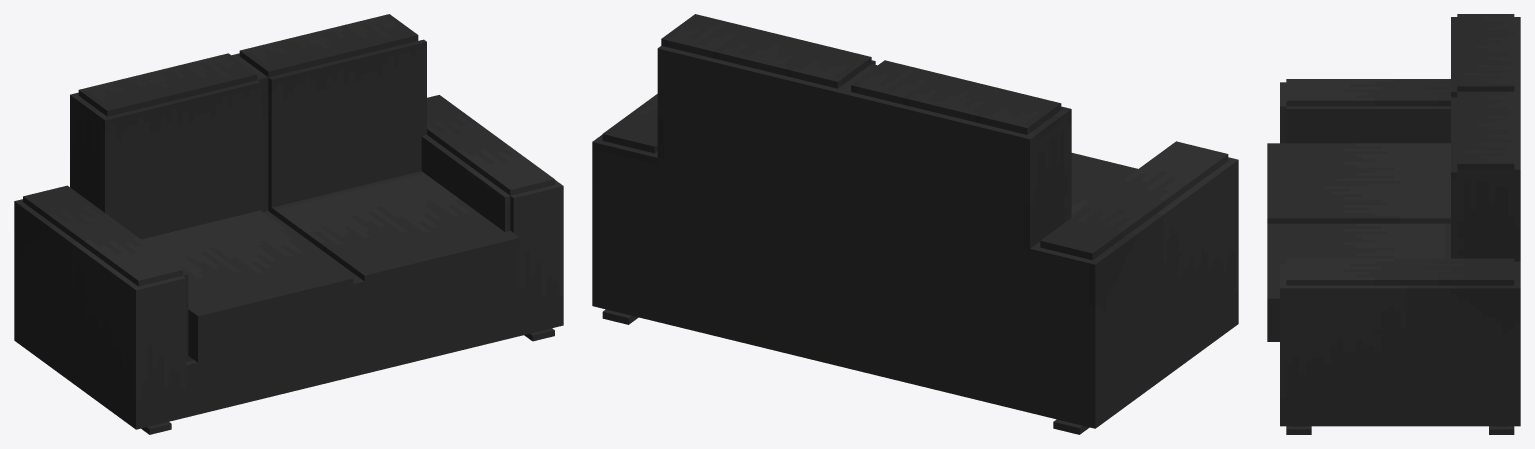
File: Decor-34.obj
3 views of the same model, side by side, from view 1: azimuth 30°, elevation 25°; view 2: azimuth 150°, elevation 25°; view 3: azimuth 270°, elevation 25° (orthographic). The views are drawn at different scales.
Bounding box in the file's own units: 7.7 × 4.3 × 4.
Materials: 1 (1 with a texture image).
